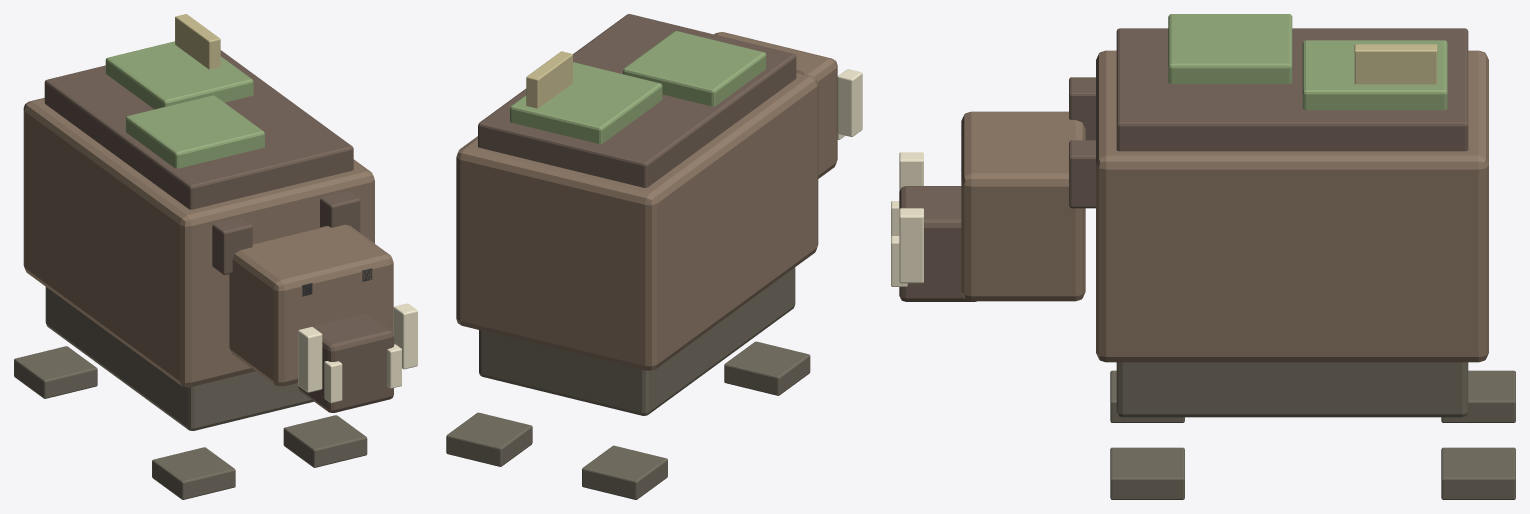
The model's file is tusker_sow.glb.
3 views of the same model, side by side, from view 1: azimuth 30°, elevation 25°; view 2: azimuth 150°, elevation 25°; view 3: azimuth 270°, elevation 25° (orthographic). The views are drawn at different scales.
Visible parts, largest first — view 1: Body_torso, Body_ridge, Head_skull, Body_belly, Body_mantle_a, Body_mantle_b, Head_snout, Leg_FR_hoof, Leg_BL_hoof, Leg_FL_hoof, Body_reed, Head_ear_L (+5 smaller); view 2: Body_torso, Body_ridge, Body_belly, Body_mantle_b, Body_mantle_a, Leg_BR_hoof, Leg_FL_hoof, Leg_BL_hoof, Head_skull, Body_reed, Head_tusk_FL; view 3: Body_torso, Body_ridge, Head_skull, Body_belly, Body_mantle_a, Body_mantle_b, Head_snout, Leg_FR_hoof, Leg_BR_hoof, Body_reed, Leg_BL_hoof, Head_tusk_FR (+4 smaller).
Boxes of the visible parts, x1=… form: Body_torso: x1=23, y1=98, x2=374, y2=387; Body_ridge: x1=44, y1=50, x2=353, y2=209; Head_skull: x1=229, y1=224, x2=393, y2=386; Body_belly: x1=45, y1=287, x2=313, y2=430; Body_mantle_a: x1=125, y1=95, x2=264, y2=168; Body_mantle_b: x1=105, y1=41, x2=253, y2=109; Head_snout: x1=298, y1=313, x2=393, y2=412; Leg_FR_hoof: x1=283, y1=415, x2=367, y2=467; Leg_BL_hoof: x1=14, y1=346, x2=97, y2=398; Leg_FL_hoof: x1=152, y1=447, x2=235, y2=499; Body_reed: x1=175, y1=14, x2=220, y2=69; Head_ear_L: x1=212, y1=217, x2=252, y2=274; Body_torso: x1=456, y1=72, x2=818, y2=370; Body_ridge: x1=478, y1=14, x2=796, y2=187; Body_belly: x1=479, y1=267, x2=795, y2=415; Body_mantle_b: x1=510, y1=62, x2=662, y2=143; Body_mantle_a: x1=623, y1=31, x2=766, y2=106; Leg_BR_hoof: x1=446, y1=412, x2=532, y2=466; Leg_FL_hoof: x1=724, y1=341, x2=810, y2=395; Leg_BL_hoof: x1=582, y1=445, x2=667, y2=499; Head_skull: x1=714, y1=32, x2=837, y2=178; Body_reed: x1=526, y1=51, x2=572, y2=108; Head_tusk_FL: x1=837, y1=69, x2=862, y2=136; Body_torso: x1=1096, y1=50, x2=1488, y2=362; Body_ridge: x1=1116, y1=28, x2=1468, y2=151; Head_skull: x1=961, y1=111, x2=1085, y2=301; Body_belly: x1=1116, y1=362, x2=1468, y2=417; Body_mantle_a: x1=1168, y1=14, x2=1292, y2=83; Body_mantle_b: x1=1302, y1=40, x2=1447, y2=110; Head_snout: x1=899, y1=186, x2=976, y2=301; Leg_FR_hoof: x1=1110, y1=447, x2=1184, y2=499; Leg_BR_hoof: x1=1441, y1=447, x2=1515, y2=499; Body_reed: x1=1354, y1=44, x2=1437, y2=84; Leg_BL_hoof: x1=1441, y1=370, x2=1515, y2=422; Head_tusk_FR: x1=899, y1=208, x2=923, y2=283.
Size of the model in its own units: 0.65 by 1.13 by 1.51.
